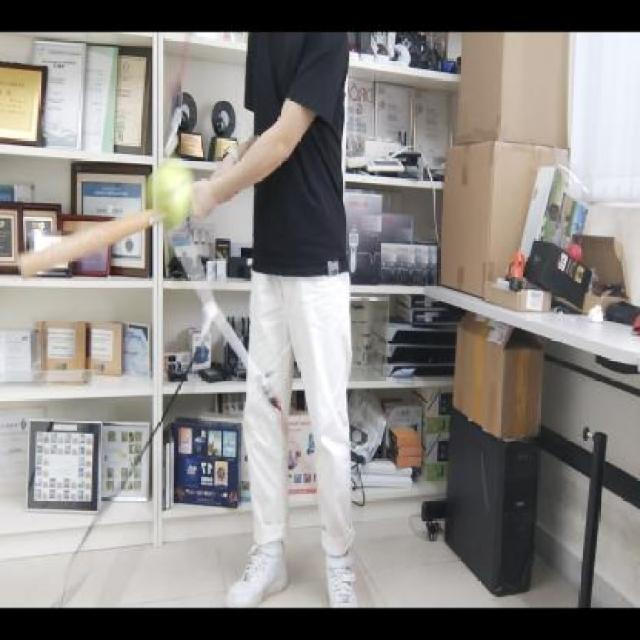baseball: (145, 158, 193, 228)
